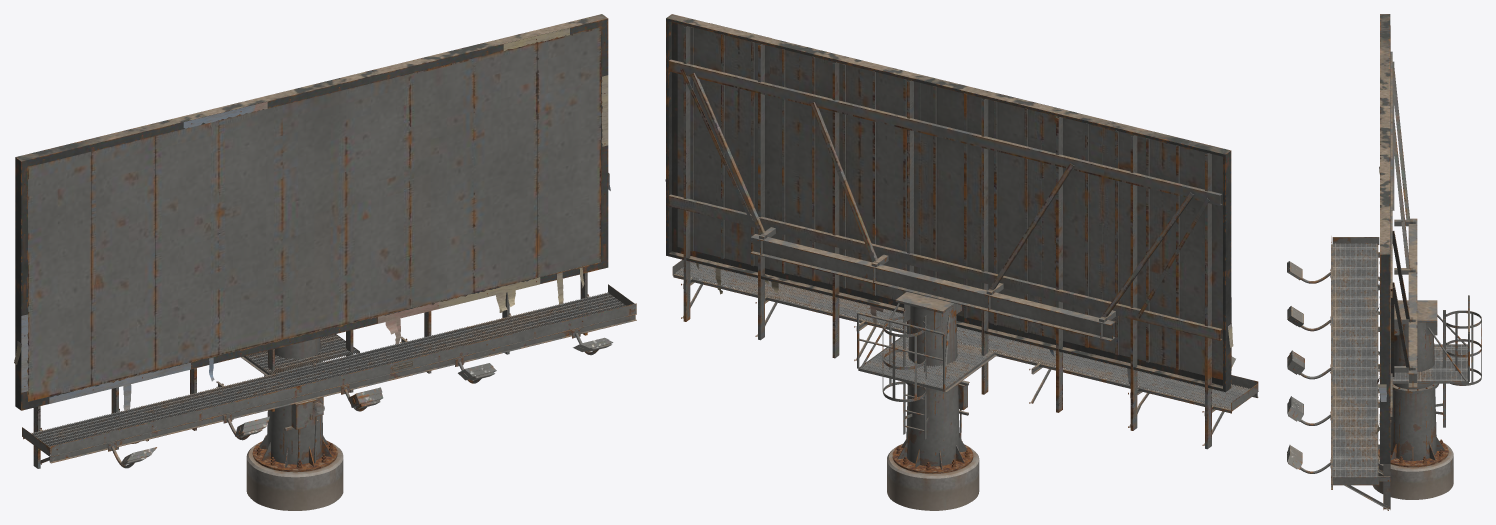
File: billboard.glb
3 renders of one model, left to right at view 1: azimuth 30°, elevation 25°; view 2: azimuth 150°, elevation 25°; view 3: azimuth 270°, elevation 25°, orthographic. The views are drawn at different scales.
Visible parts, largest first — view 1: steel_weathered_rear, steel_weathered, paint_peeling, grating, vinyl_old, concrete, rust; view 2: steel_weathered_rear, steel_weathered, paint_peeling, grating, concrete, rust; view 3: grating, paint_peeling, steel_weathered, steel_weathered_rear, concrete, rust, glass, vinyl_old.
Part boxes in pixels (<box>): steel_weathered_rear: <box>28,27,600,468</box>; steel_weathered: <box>15,14,613,466</box>; paint_peeling: <box>22,284,636,468</box>; grating: <box>31,292,625,454</box>; vinyl_old: <box>14,28,610,410</box>; concrete: <box>246,442,343,510</box>; rust: <box>24,27,630,472</box>; steel_weathered_rear: <box>669,24,1222,449</box>; steel_weathered: <box>666,14,1235,439</box>; paint_peeling: <box>672,227,1258,469</box>; grating: <box>675,261,1249,409</box>; concrete: <box>887,444,979,510</box>; rust: <box>681,240,1203,473</box>; grating: <box>1333,243,1467,477</box>; paint_peeling: <box>1300,218,1445,509</box>; steel_weathered: <box>1287,14,1481,469</box>; steel_weathered_rear: <box>1383,25,1410,509</box>; concrete: <box>1372,442,1453,499</box>; rust: <box>1330,242,1448,510</box>; glass: <box>1291,263,1379,460</box>; vinyl_old: <box>1375,166,1386,468</box>.
Size of the model in its own units: 11.31 by 7.56 by 3.83.
10 materials, 8 textured.
